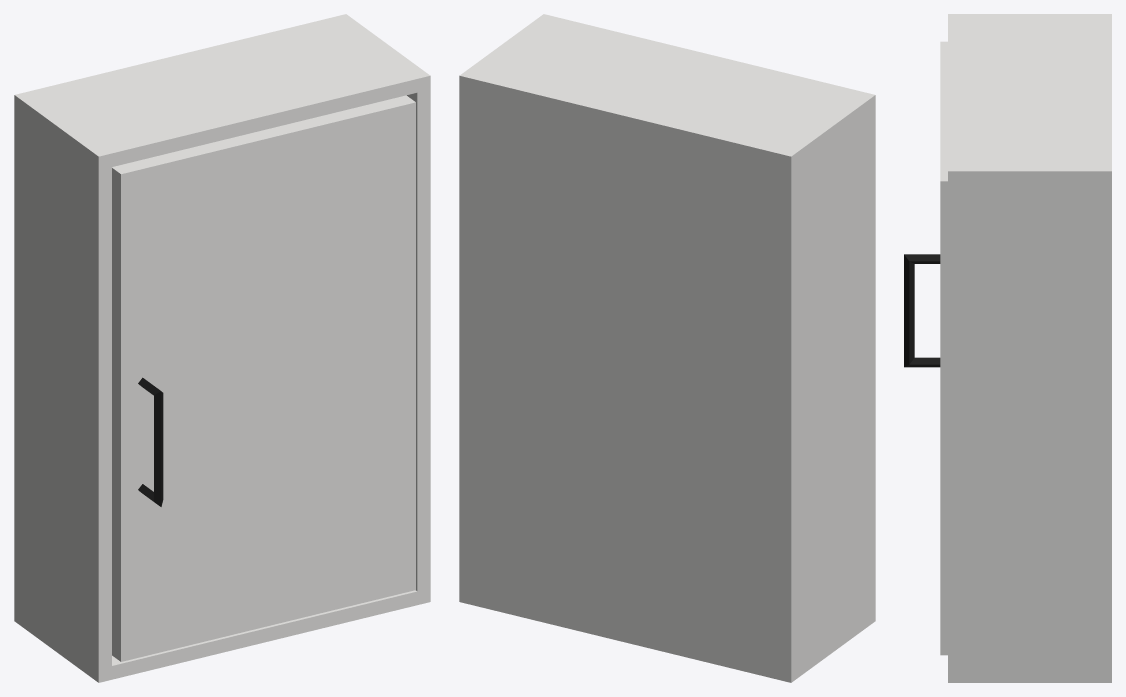
Rendered from SM_fusebox_01.fbx.
The picture shows the model from 3 angles, left to right: view 1: azimuth 30°, elevation 25°; view 2: azimuth 150°, elevation 25°; view 3: azimuth 270°, elevation 25°; orthographic projection. The views are drawn at different scales.
Parts seen in each view (by area): view 1: Box065; view 2: Box065; view 3: Box065.
Boxes of the visible parts, x1=… form: Box065: x1=14, y1=14, x2=430, y2=682; Box065: x1=459, y1=14, x2=875, y2=682; Box065: x1=904, y1=14, x2=1111, y2=682.
Bounding box in the file's own units: 16.12 × 9 × 24.44.
